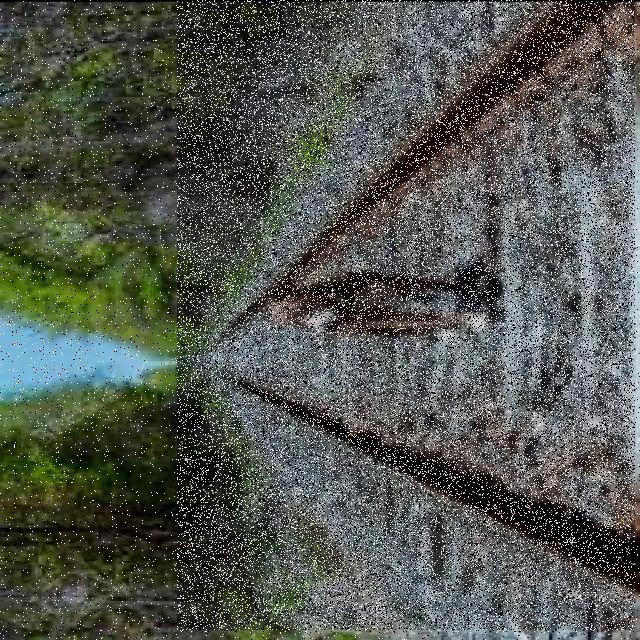rail: (178, 1, 636, 631)
